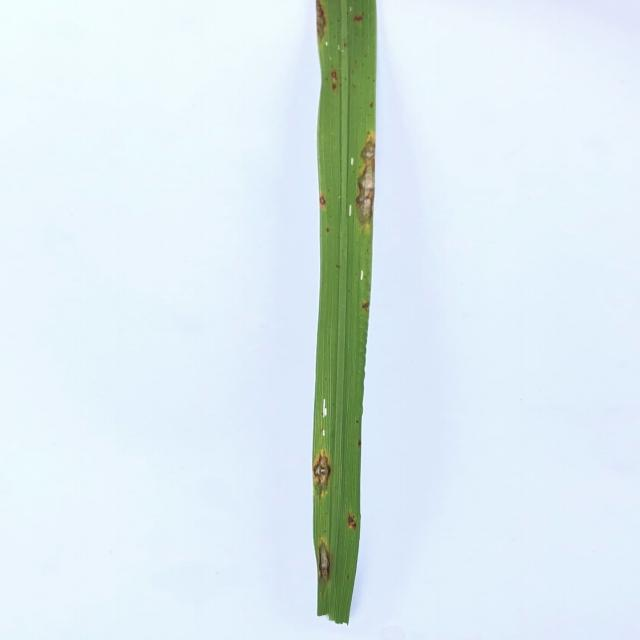leaf blast: (354, 130, 376, 233), (311, 446, 337, 497), (314, 535, 336, 584), (316, 0, 328, 46), (326, 68, 342, 95), (344, 516, 360, 532), (348, 11, 366, 25), (317, 192, 329, 207), (361, 298, 371, 315)
